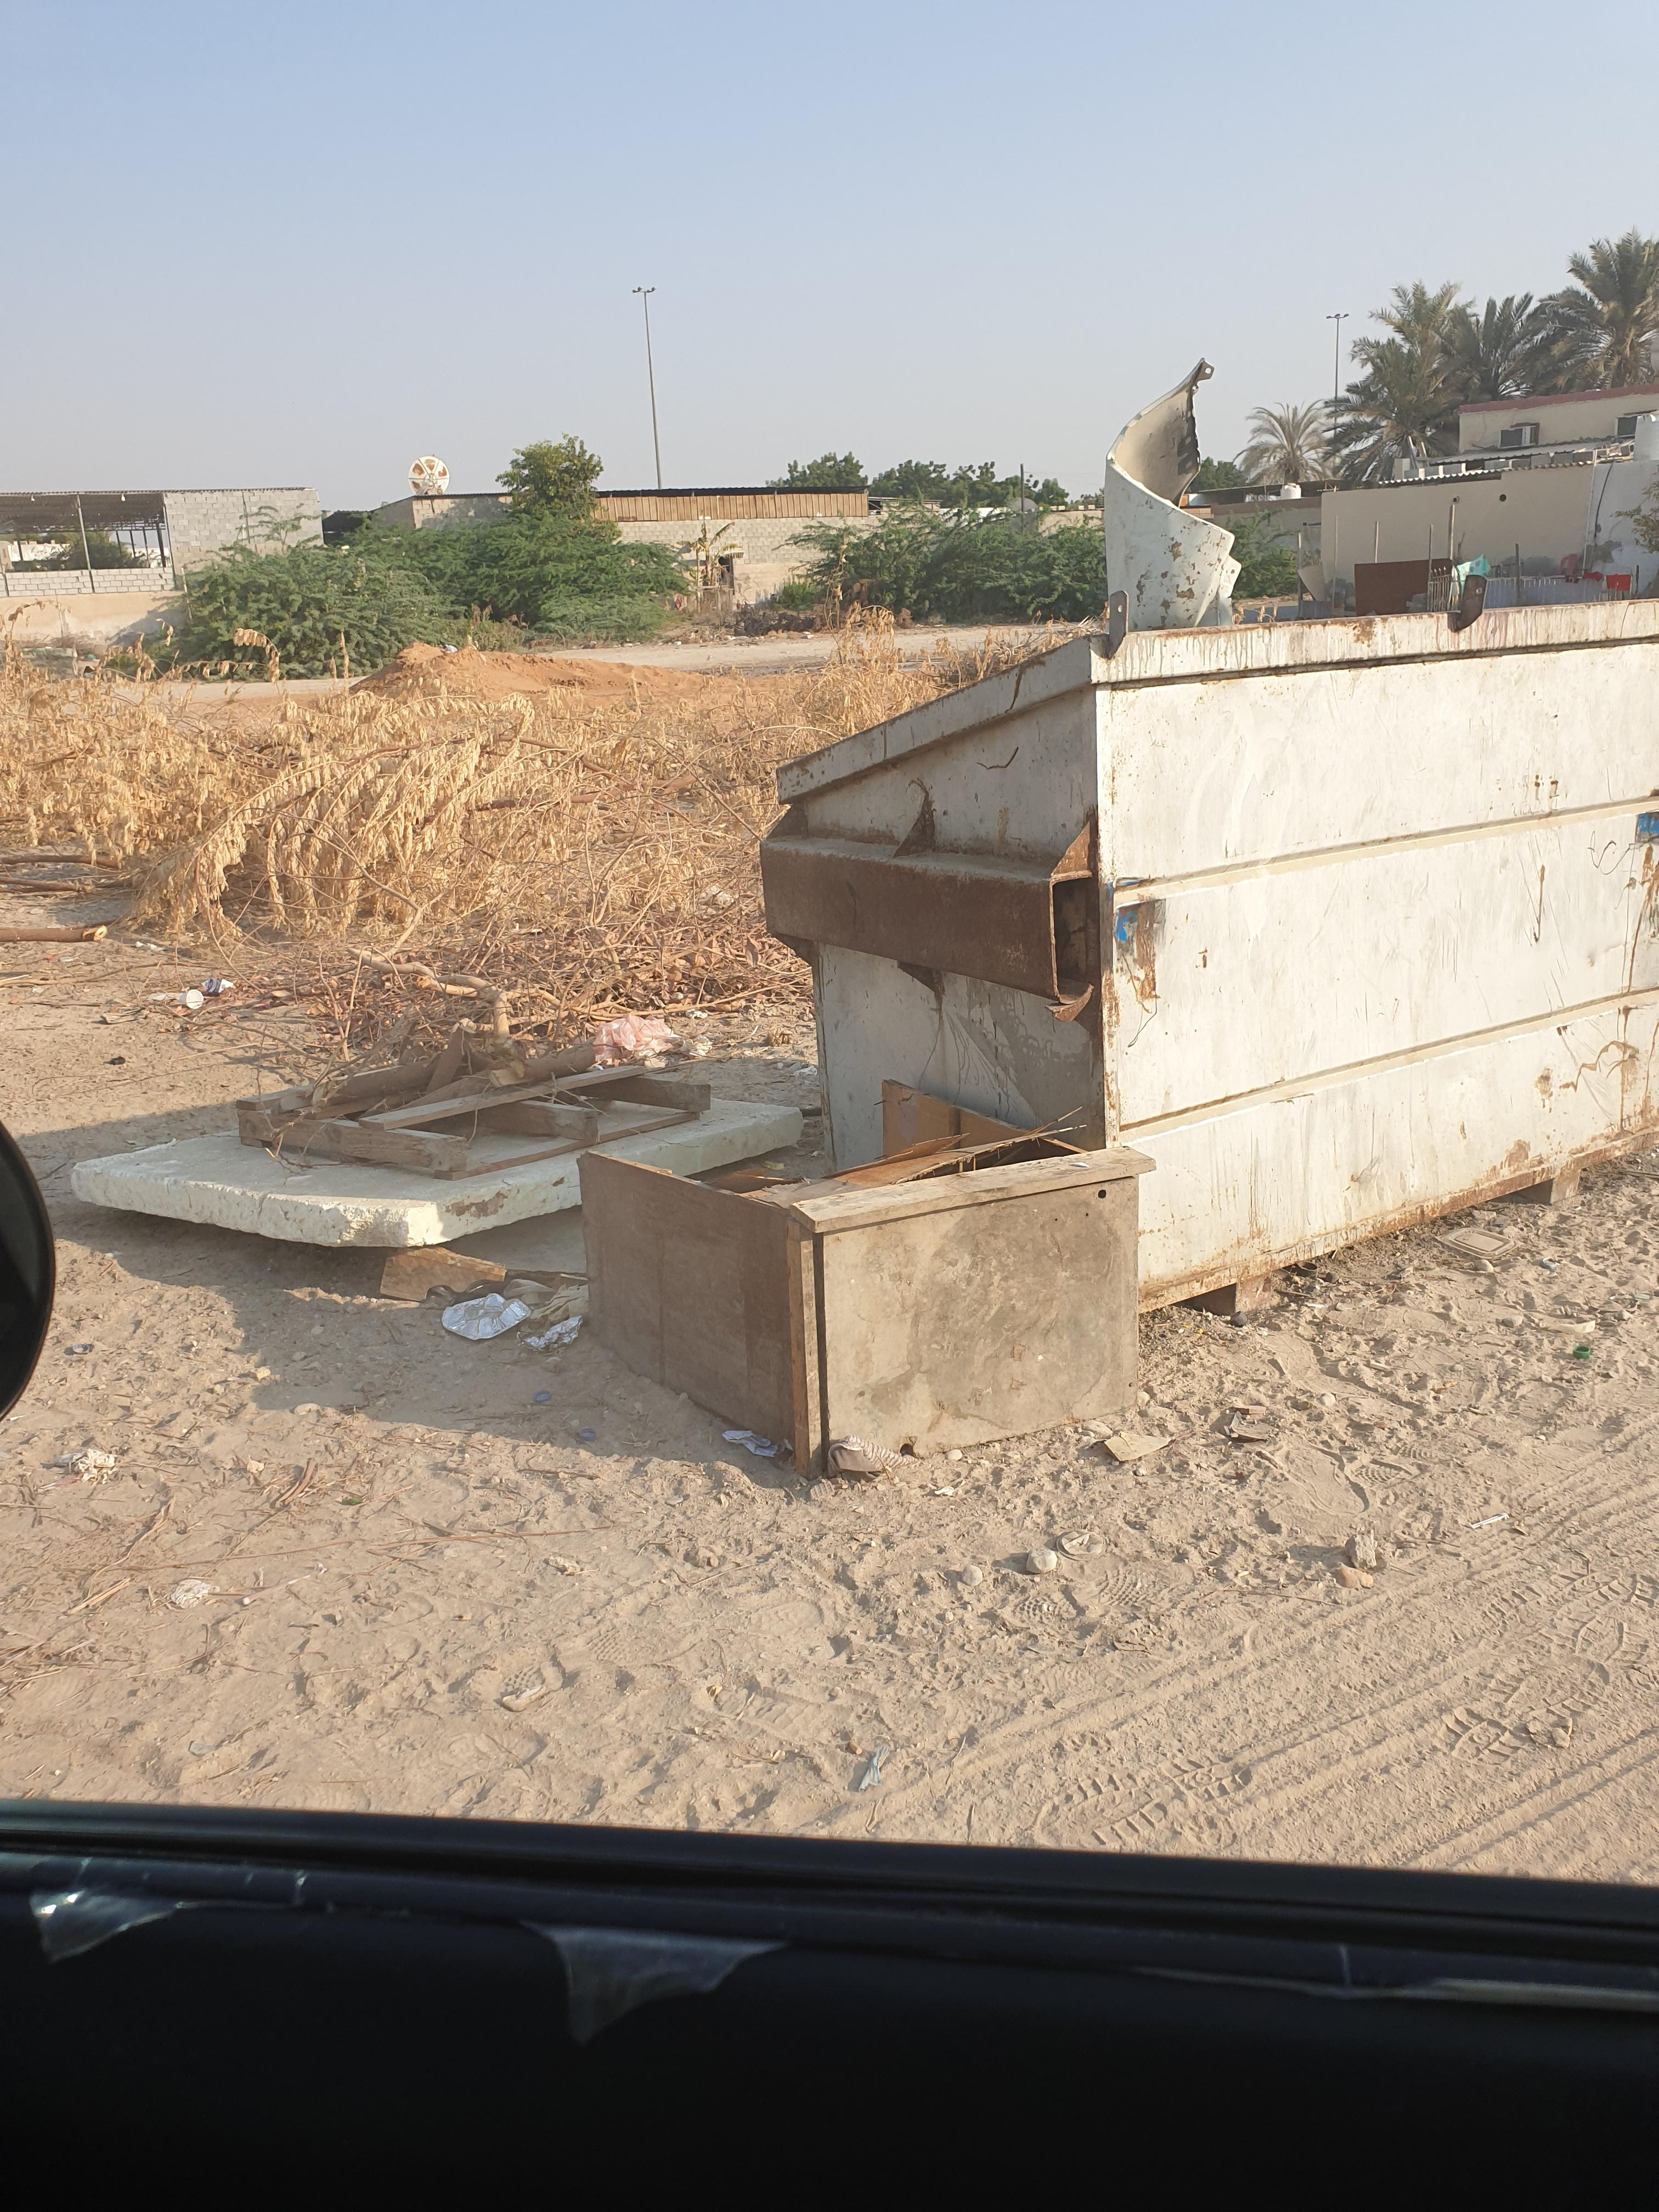fallen_trees: (160, 688, 727, 1033)
uncollected_waste: (420, 1143, 1243, 1515), (542, 1103, 1098, 1477), (92, 1111, 631, 1291), (221, 1069, 587, 1217), (793, 632, 978, 732)
